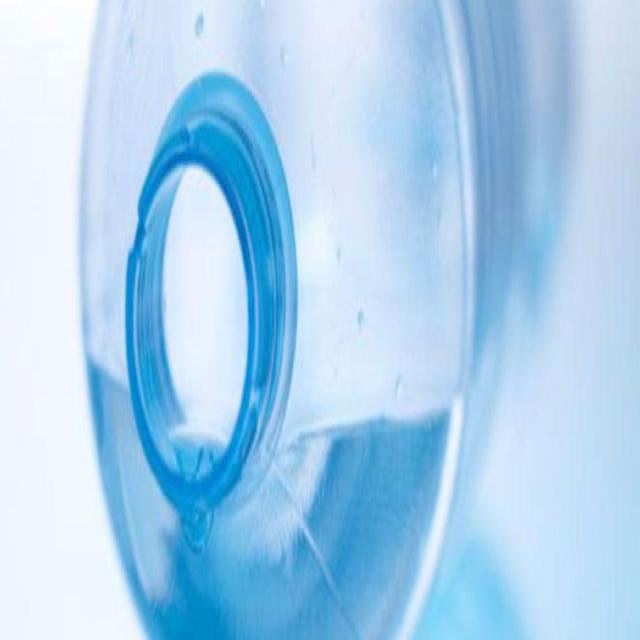plastic_bottle: (54, 1, 574, 640)
